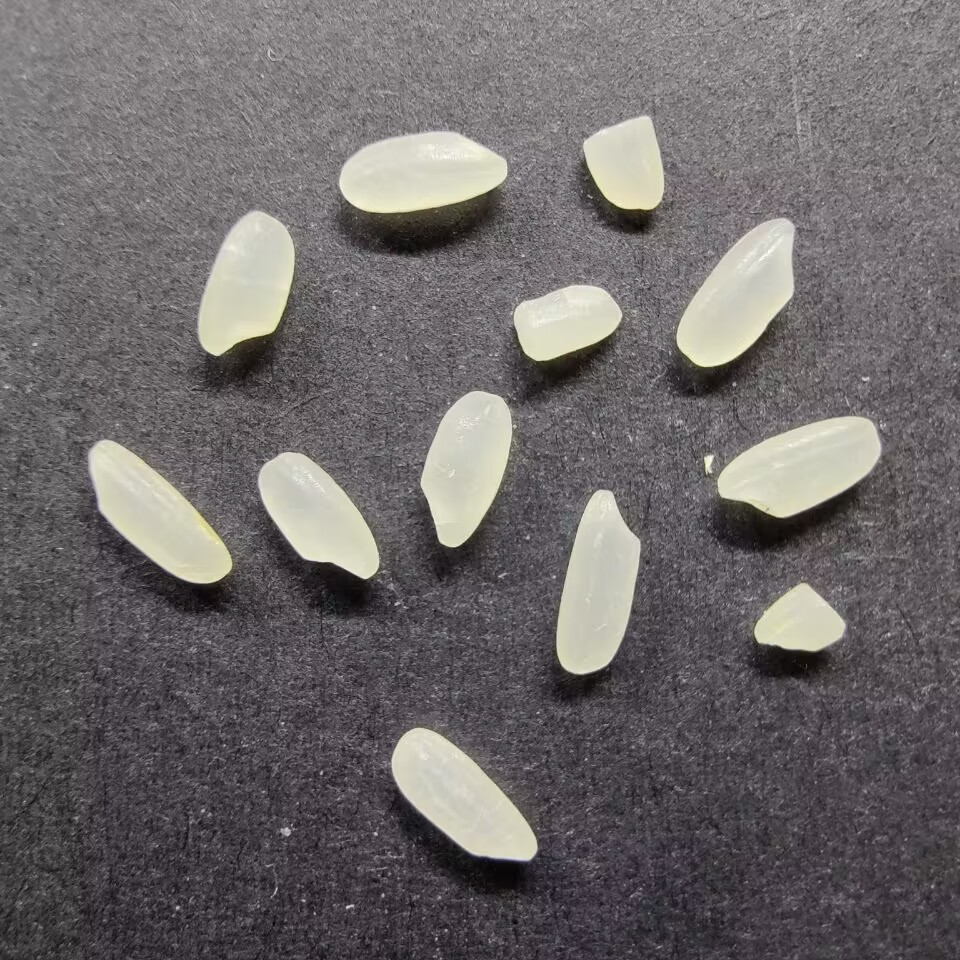broken: (513, 282, 625, 361), (583, 111, 667, 212), (751, 581, 849, 653)
rice: (85, 438, 234, 587), (389, 724, 540, 864), (673, 218, 799, 368), (715, 412, 883, 520), (555, 486, 643, 678), (257, 449, 381, 583), (339, 128, 511, 216), (196, 208, 295, 358), (420, 390, 512, 549)
